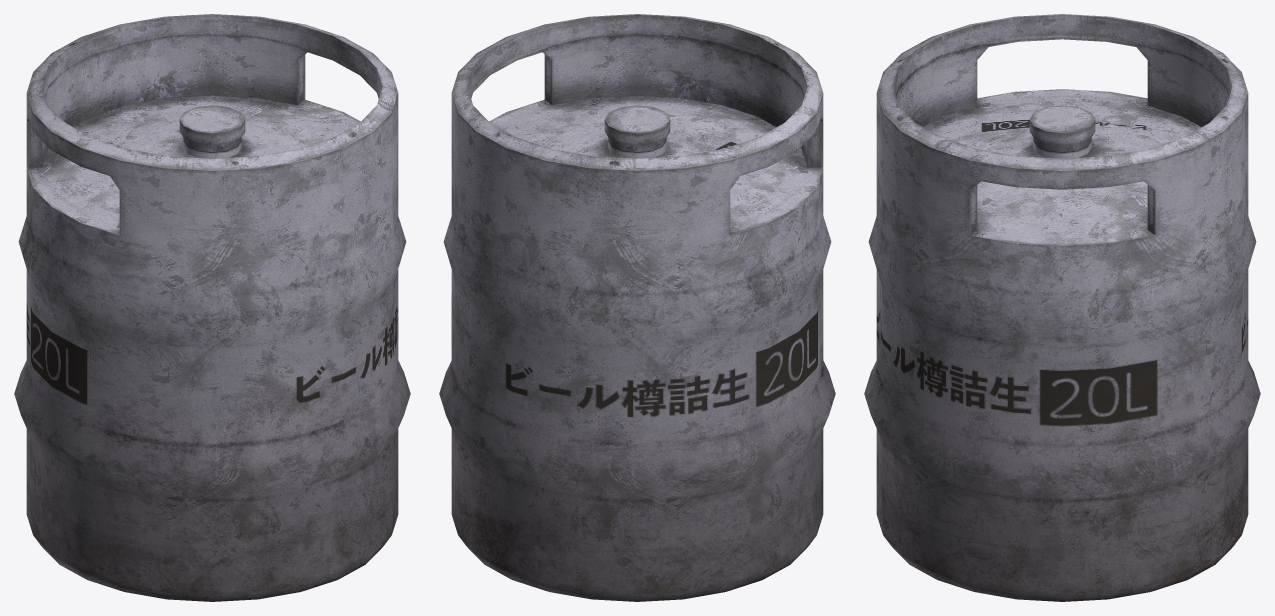
File: BeerBarrel.fbx
3 views of the same model, side by side, from view 1: azimuth 30°, elevation 25°; view 2: azimuth 150°, elevation 25°; view 3: azimuth 270°, elevation 25° (orthographic).
Parts seen in each view (by area): view 1: BeerBarrel; view 2: BeerBarrel; view 3: BeerBarrel.
Boxes of the visible parts, x1,y1,x2,y2 form: BeerBarrel: (14,14,410,601); BeerBarrel: (439,14,835,601); BeerBarrel: (864,14,1260,601).
Bounding box in the file's own units: 36.29 × 44.47 × 36.29.
1 material, 1 textured.
